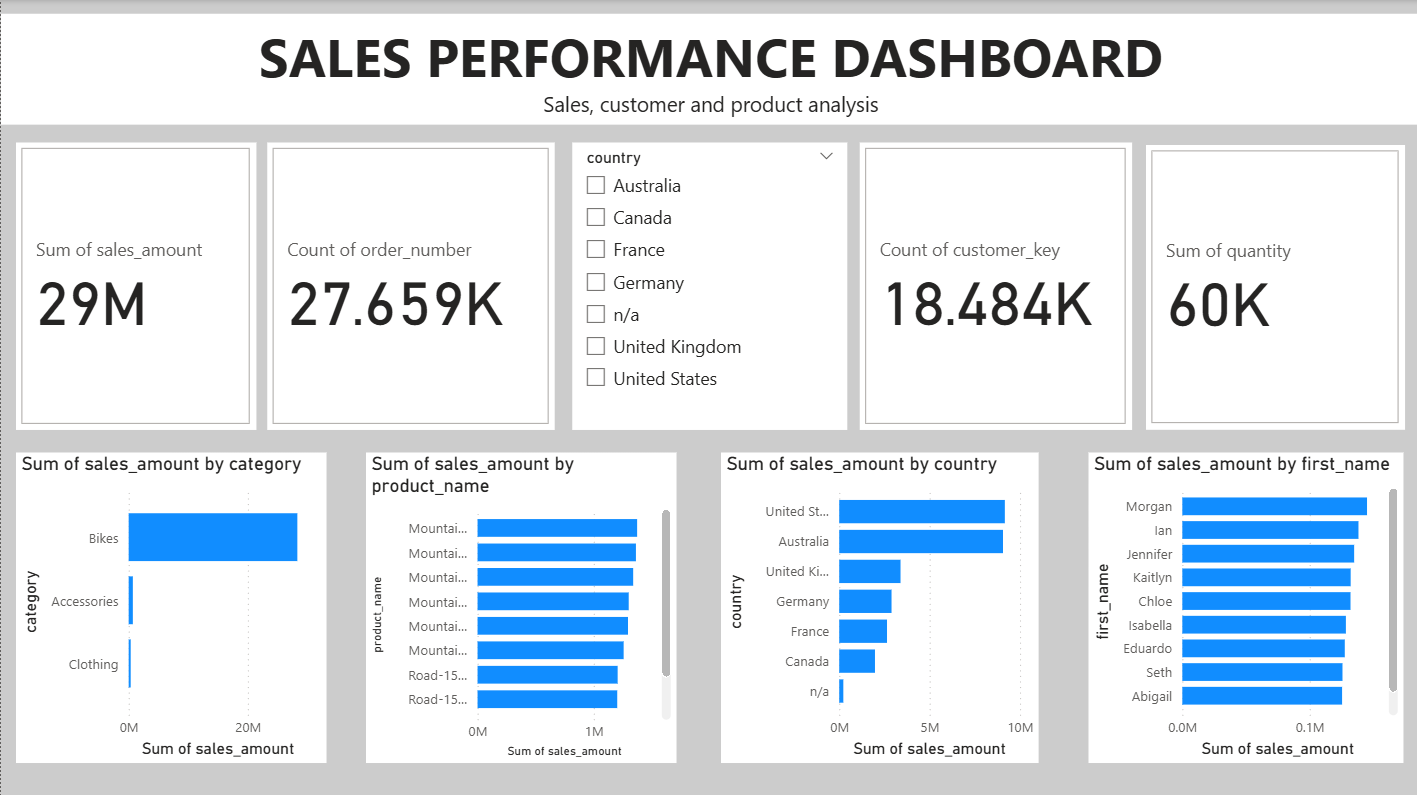

What the dashboard file says about the page in this screenshot:
{"tool":"powerbi","page":{"name":"Page 1","canvas":[1280,720],"ordinal":0},"visuals":[{"type":"cardVisual","fields":{"Data":["Sum(gold fact_sales.sales_amount)"]},"box":[13.7,129,216.8,259.3],"z":0},{"type":"cardVisual","fields":{"Data":["Count(gold fact_sales.order_number)"]},"box":[240.1,129,259.3,259.3],"z":1000},{"type":"cardVisual","fields":{"Data":["Count(gold fact_sales.customer_key)"]},"box":[773.9,129,245.6,259.3],"z":2000},{"type":"cardVisual","fields":{"Data":["Sum(gold fact_sales.quantity)"]},"box":[1031.9,130.4,233.3,256.6],"z":3000},{"type":"clusteredBarChart","fields":{"Category":["gold dim_products.category"],"Y":["Sum(gold fact_sales.sales_amount)"]},"box":[13.7,407.5,279.9,279.9],"z":4000},{"type":"barChart","fields":{"Category":["gold dim_products.product_name"],"Y":["Sum(gold fact_sales.sales_amount)"]},"box":[329.3,407.5,279.9,279.9],"z":5000},{"type":"barChart","fields":{"Category":["gold dim_customers.country"],"Y":["Sum(gold fact_sales.sales_amount)"]},"box":[649.1,407.5,286.8,279.9],"z":6000},{"type":"barChart","fields":{"Category":["gold dim_customers.first_name","gold dim_customers.last_name"],"Y":["Sum(gold fact_sales.sales_amount)"]},"box":[981.1,407.5,284,279.9],"z":7000},{"type":"slicer","fields":{"Values":["gold dim_customers.country"]},"box":[514.6,129,248.4,259.3],"z":8000},{"type":"textbox","box":[0,12.3,1280.3,100.2],"z":9000}]}

Visuals, with their boxes in screenshot pixels (x1, y1, x2, y2), scaled from the page's 1280x720 canvas onto the 1417x795 screenshot:
cardVisual - Sum(gold fact_sales.sales_amount): [x1=15, y1=142, x2=255, y2=429]
cardVisual - Count(gold fact_sales.order_number): [x1=266, y1=142, x2=553, y2=429]
cardVisual - Count(gold fact_sales.customer_key): [x1=857, y1=142, x2=1129, y2=429]
cardVisual - Sum(gold fact_sales.quantity): [x1=1142, y1=144, x2=1401, y2=427]
clusteredBarChart - gold dim_products.category x Sum(gold fact_sales.sales_amount): [x1=15, y1=450, x2=325, y2=759]
barChart - gold dim_products.product_name x Sum(gold fact_sales.sales_amount): [x1=365, y1=450, x2=674, y2=759]
barChart - gold dim_customers.country x Sum(gold fact_sales.sales_amount): [x1=719, y1=450, x2=1036, y2=759]
barChart - gold dim_customers.first_name x gold dim_customers.last_name: [x1=1086, y1=450, x2=1401, y2=759]
slicer - gold dim_customers.country: [x1=570, y1=142, x2=845, y2=429]
textbox: [x1=0, y1=14, x2=1416, y2=124]
